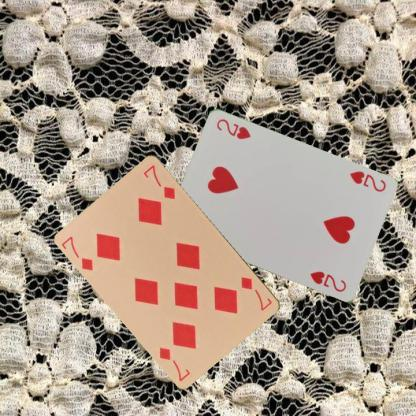2h: (347, 168, 387, 194)
7d: (59, 233, 96, 273), (238, 274, 274, 312)
